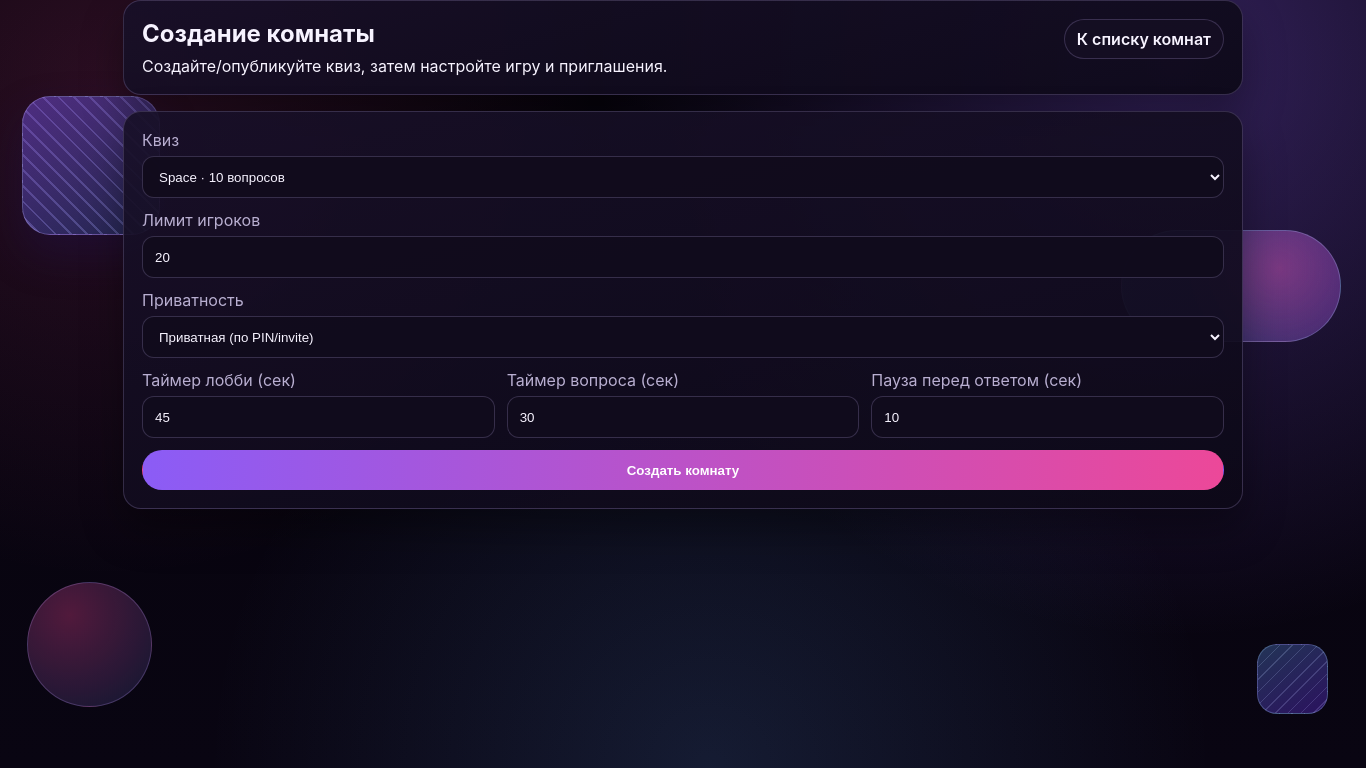
Test case: integration: room create + join flow › creates room and shows pin
Click the button "Создать комнату". click: (683, 470)
box: x1=142 y1=450 x2=1224 y2=490
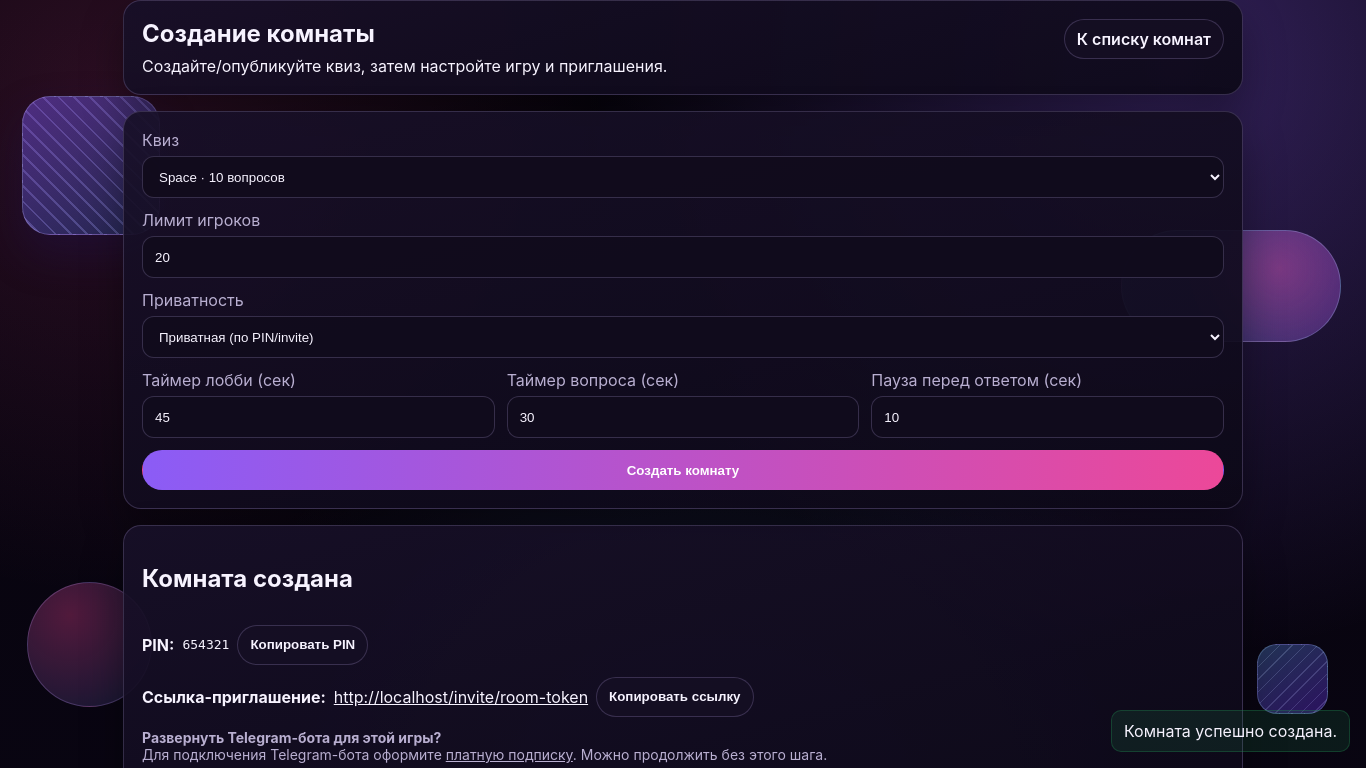
Result: the heading "Комната создана" is shown at x1=142 y1=564 x2=353 y2=593
Result: the text "654321" is shown at x1=182 y1=637 x2=229 y2=652
